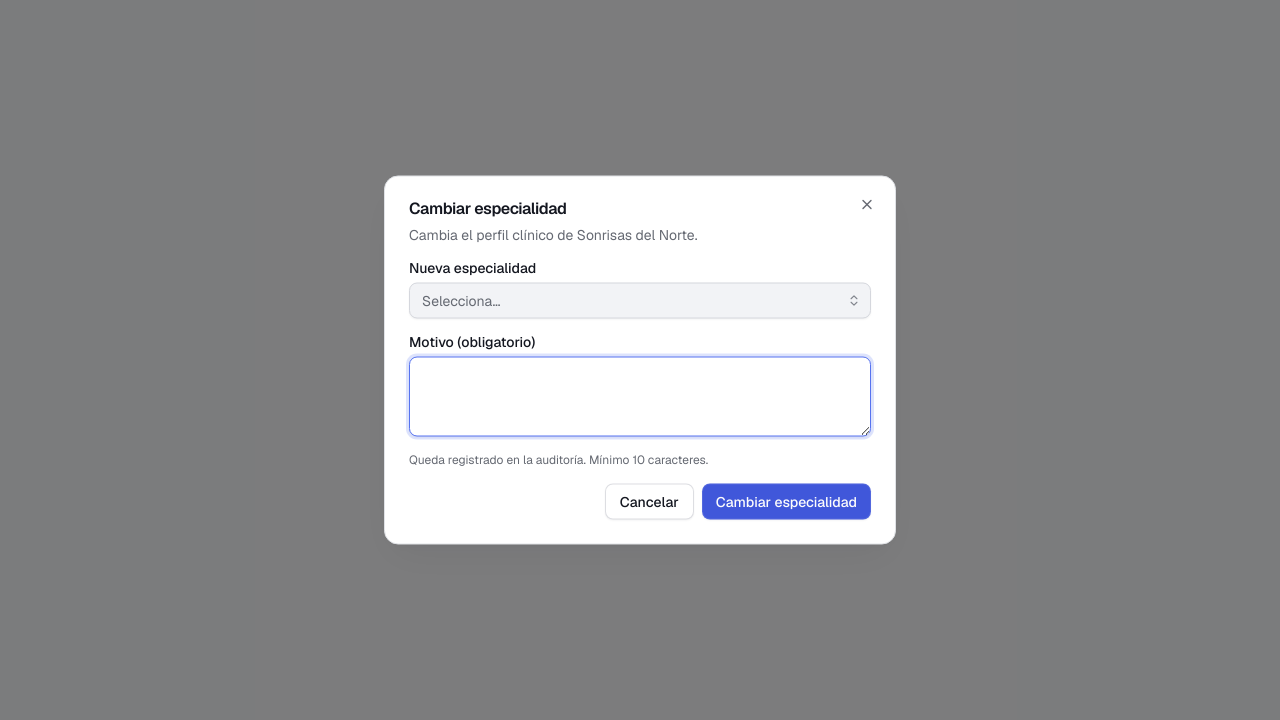
Test: vista previa de impacto › si nada cambia, lo dice
The image size is (1280, 720).
Select "Podología" in the dropdown labelled "Nueva especialidad". click: (640, 300)
box: [409,282,871,318]
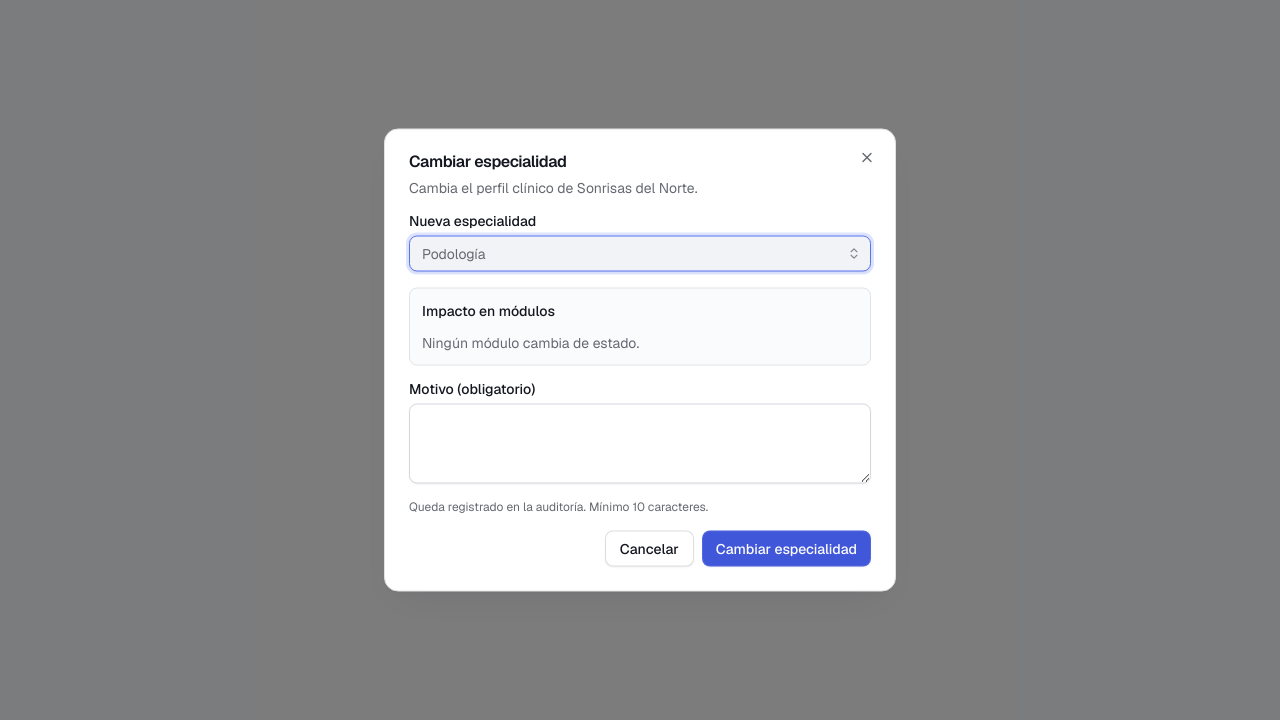
expect the text "Ningún módulo cambia de estado." is shown: met, box [422,334,639,352]
